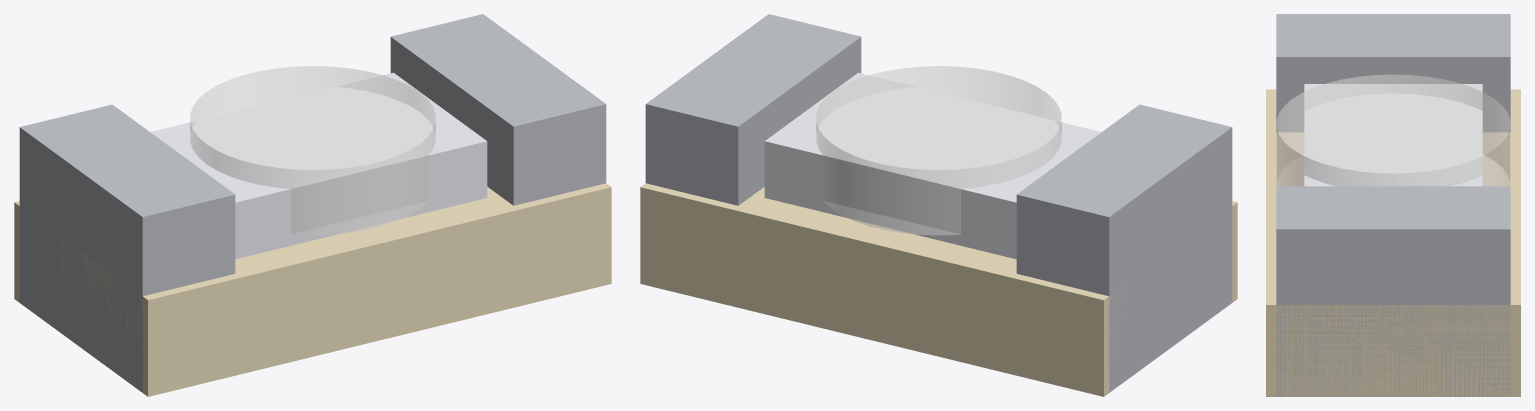
Rendered from lcd1602-backlight.glb.
The picture shows the model from 3 angles, left to right: view 1: azimuth 30°, elevation 25°; view 2: azimuth 150°, elevation 25°; view 3: azimuth 270°, elevation 25°; orthographic projection. The views are drawn at different scales.
Size of the model in its own units: 0.0016 by 0.00058 by 0.0008.
